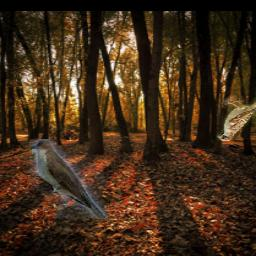Cuckoo: (29, 139, 108, 219)
Sparrow: (218, 93, 256, 141)
